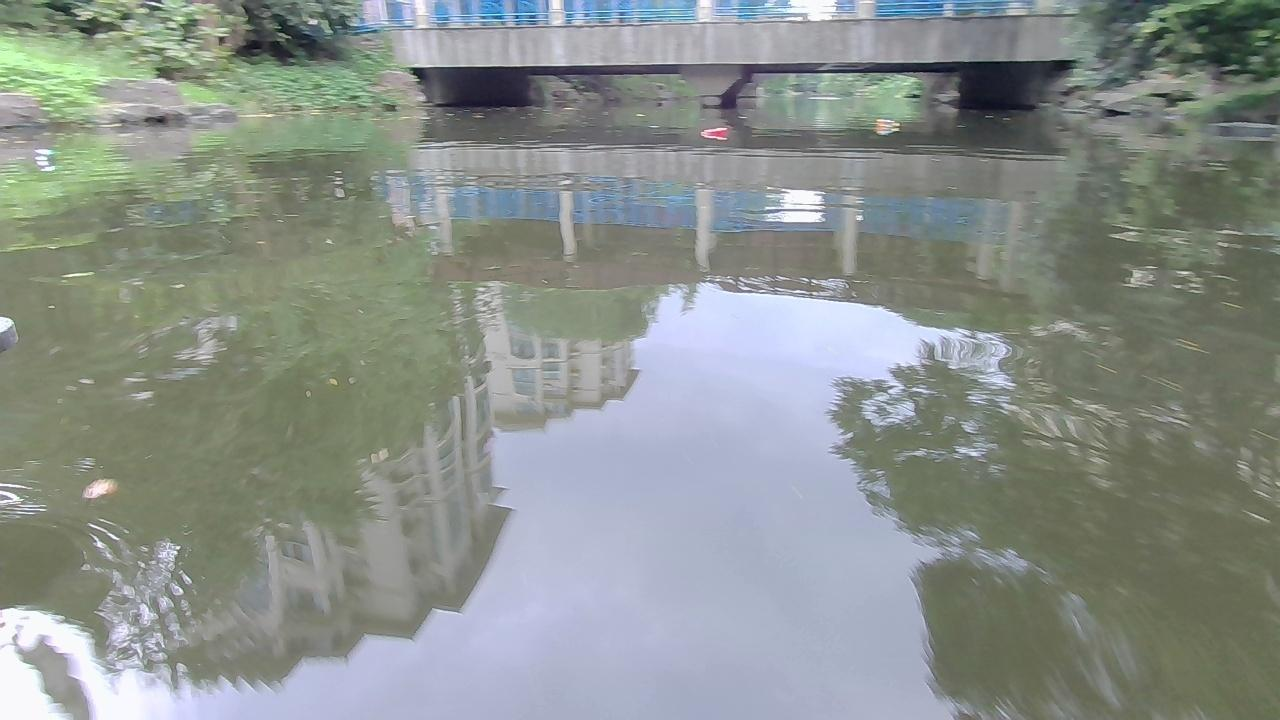bottle: (698, 123, 730, 138), (873, 118, 899, 131), (33, 146, 55, 158)
